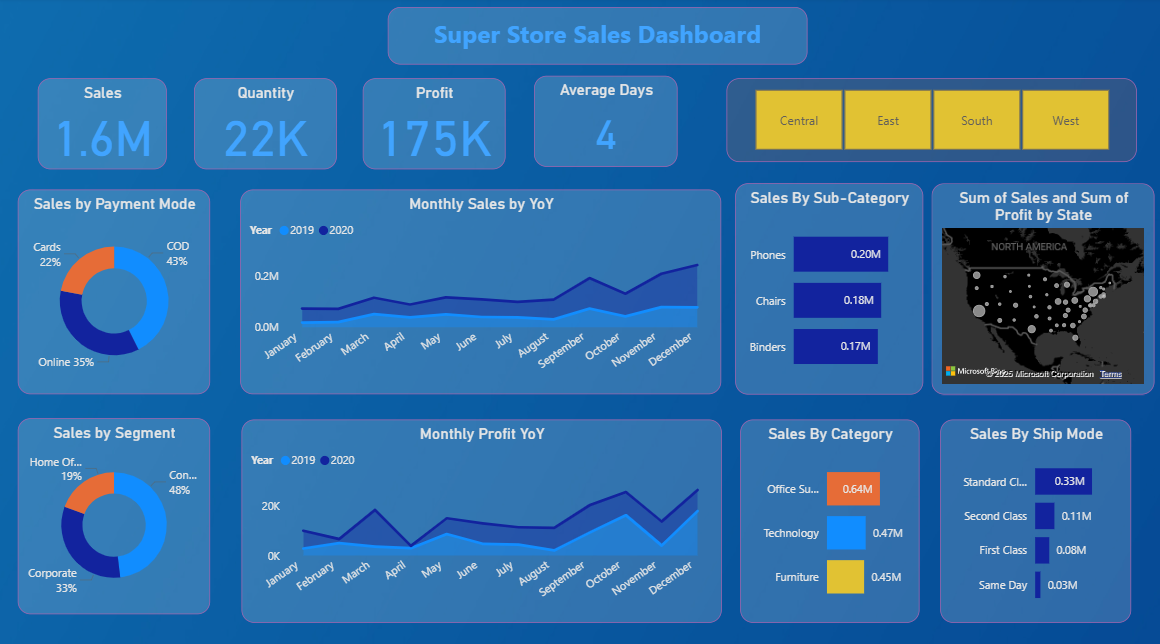

What the dashboard file says about the page in this screenshot:
{"tool":"powerbi","page":{"name":"Page 1","canvas":[1280,720],"ordinal":0},"visuals":[{"type":"clusteredBarChart","title":"Sales By Category","fields":{"Category":["SuperStore_Sales_Dataset.Category"],"Y":["Sum(SuperStore_Sales_Dataset.Sales)"]},"box":[813.1,464.5,196.6,223.2],"z":0},{"type":"clusteredBarChart","title":"Sales By Sub-Category","fields":{"Category":["SuperStore_Sales_Dataset.Sub-Category"],"Y":["Sum(SuperStore_Sales_Dataset.Sales)"]},"box":[808.3,205.1,206.3,231.6],"z":1000},{"type":"clusteredBarChart","title":"Sales By Ship Mode","fields":{"Category":["SuperStore_Sales_Dataset.Ship Mode"],"Y":["Sum(SuperStore_Sales_Dataset.Sales)"]},"box":[1033.9,463.3,209.9,223.2],"z":2000},{"type":"stackedAreaChart","title":"Monthly Sales by YoY","fields":{"Y":["Sum(SuperStore_Sales_Dataset.Sales)"],"Category":["SuperStore_Sales_Dataset.Order Date.Variation.Date Hierarchy.Month","SuperStore_Sales_Dataset.Order Date.Variation.Date Hierarchy.Day"],"Series":["SuperStore_Sales_Dataset.Order Date.Variation.Date Hierarchy.Year"]},"box":[264.8,211.3,528.3,225],"z":3000},{"type":"stackedAreaChart","title":"Monthly Profit  YoY","fields":{"Category":["SuperStore_Sales_Dataset.Order Date.Variation.Date Hierarchy.Month","SuperStore_Sales_Dataset.Order Date.Variation.Date Hierarchy.Day"],"Series":["SuperStore_Sales_Dataset.Order Date.Variation.Date Hierarchy.Year"],"Y":["Sum(SuperStore_Sales_Dataset.Profit)"]},"box":[266.6,463.3,527.2,223.2],"z":4000},{"type":"map","fields":{"Category":["SuperStore_Sales_Dataset.State"],"Size":["Sum(SuperStore_Sales_Dataset.Sales)"]},"box":[1024.3,205.1,244.9,231.6],"z":5000},{"type":"donutChart","title":"Sales by Segment","fields":{"Category":["SuperStore_Sales_Dataset.Segment"],"Y":["Sum(SuperStore_Sales_Dataset.Sales)"]},"box":[21,463,211,215],"z":6000},{"type":"donutChart","title":" Sales by Payment Mode","fields":{"Category":["SuperStore_Sales_Dataset.Payment Mode"],"Y":["Sum(SuperStore_Sales_Dataset.Sales)"]},"box":[20.6,211.3,211.3,225],"z":7000},{"type":"slicer","fields":{"Values":["SuperStore_Sales_Dataset.Region"]},"box":[798.6,89.2,450.1,91.9],"z":8000},{"type":"textbox","box":[426.8,11,461.1,63.1],"z":9000},{"type":"card","title":"Sales","fields":{"Values":["Sum(SuperStore_Sales_Dataset.Sales)"]},"box":[42.5,89.2,141.3,100.2],"z":10000},{"type":"card","title":"Quantity","fields":{"Values":["Sum(SuperStore_Sales_Dataset.Quantity)"]},"box":[214.1,89.2,156.4,100.2],"z":11000},{"type":"card","title":"Profit","fields":{"Values":["Sum(SuperStore_Sales_Dataset.Profit)"]},"box":[399.3,89.2,156.4,100.2],"z":12000},{"type":"card","title":"Average Days","fields":{"Values":["Avg(SuperStore_Sales_Dataset.AverageDelivery)"]},"box":[587.3,86.4,157.8,100.2],"z":13000}]}

Visuals, with their boxes in screenshot pixels (x1, y1, x2, y2), scaled from the page's 1280x720 canvas onto the 1160x644 screenshot:
"Sales By Category" clusteredBarChart: box(737, 415, 915, 615)
"Sales By Sub-Category" clusteredBarChart: box(733, 183, 919, 391)
"Sales By Ship Mode" clusteredBarChart: box(937, 414, 1127, 614)
"Monthly Sales by YoY" stackedAreaChart: box(240, 189, 719, 390)
"Monthly Profit  YoY" stackedAreaChart: box(242, 414, 719, 614)
map - SuperStore_Sales_Dataset.State x Sum(SuperStore_Sales_Dataset.Sales): box(928, 183, 1150, 391)
"Sales by Segment" donutChart: box(19, 414, 210, 606)
" Sales by Payment Mode" donutChart: box(19, 189, 210, 390)
slicer - SuperStore_Sales_Dataset.Region: box(724, 80, 1132, 162)
textbox: box(387, 10, 805, 66)
"Sales" card: box(39, 80, 167, 169)
"Quantity" card: box(194, 80, 336, 169)
"Profit" card: box(362, 80, 504, 169)
"Average Days" card: box(532, 77, 675, 167)
